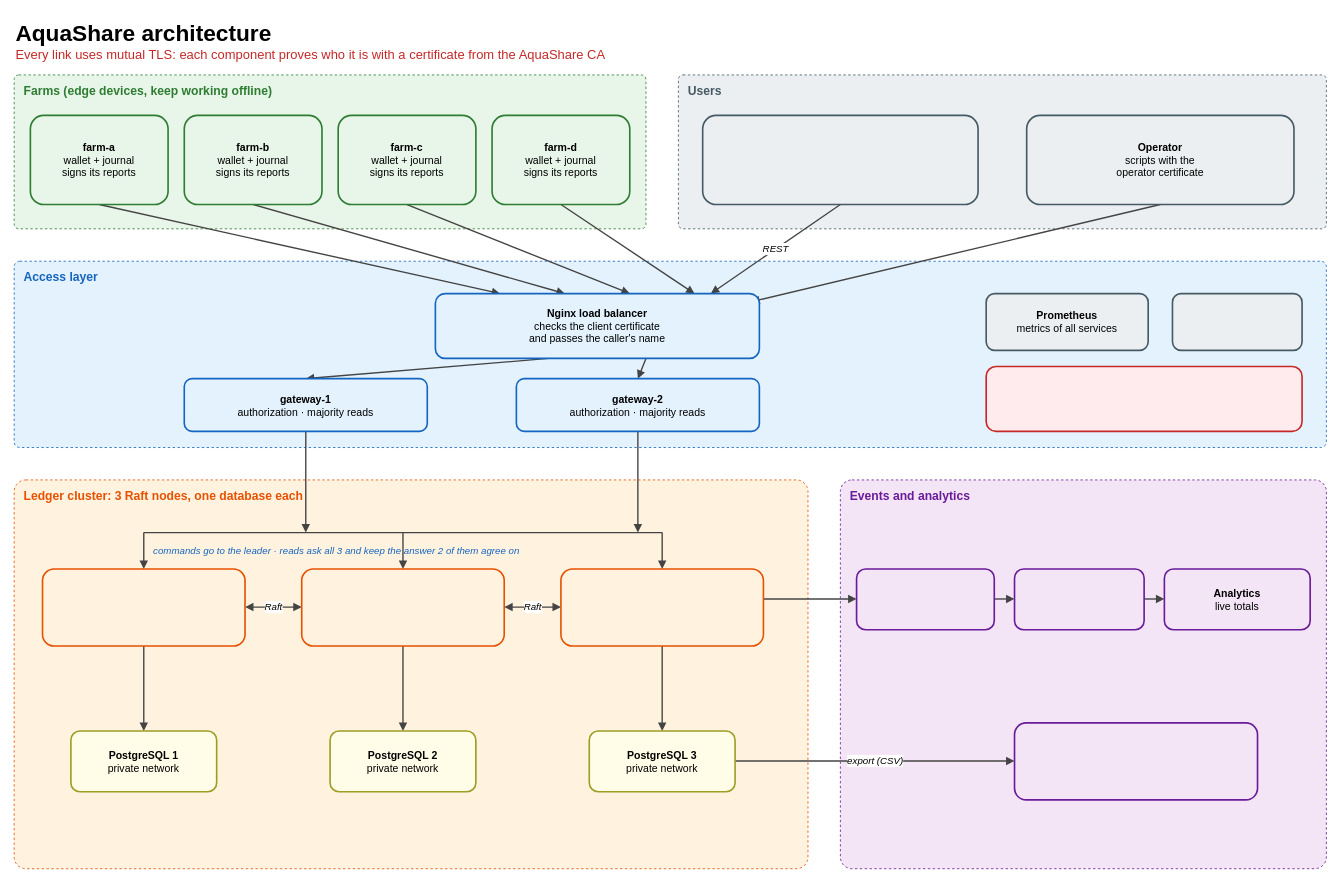
Image size: 1341x883. Some labels were removed from this diagram. Here are the shapes that lost their labels. From the top down, the centre of each, then its label:
point 839,159: Web dashboard (HTTPS) My Farm · Water Authority Demo · Test results
point 1236,321: Grafana charts
point 1143,398: AquaShare CA one certificate per component (mutual TLS on every link)
point 143,607: ledger-1 Raft node + state machine hash-chained log
point 403,607: ledger-2 Raft node + state machine hash-chained log
point 662,607: ledger-3 Raft node + state machine hash-chained log
point 925,599: Event relay reads the committed log
point 1079,599: RabbitMQ topic exchange
point 1135,761: Apache Spark (batch) season report + suggested shares
